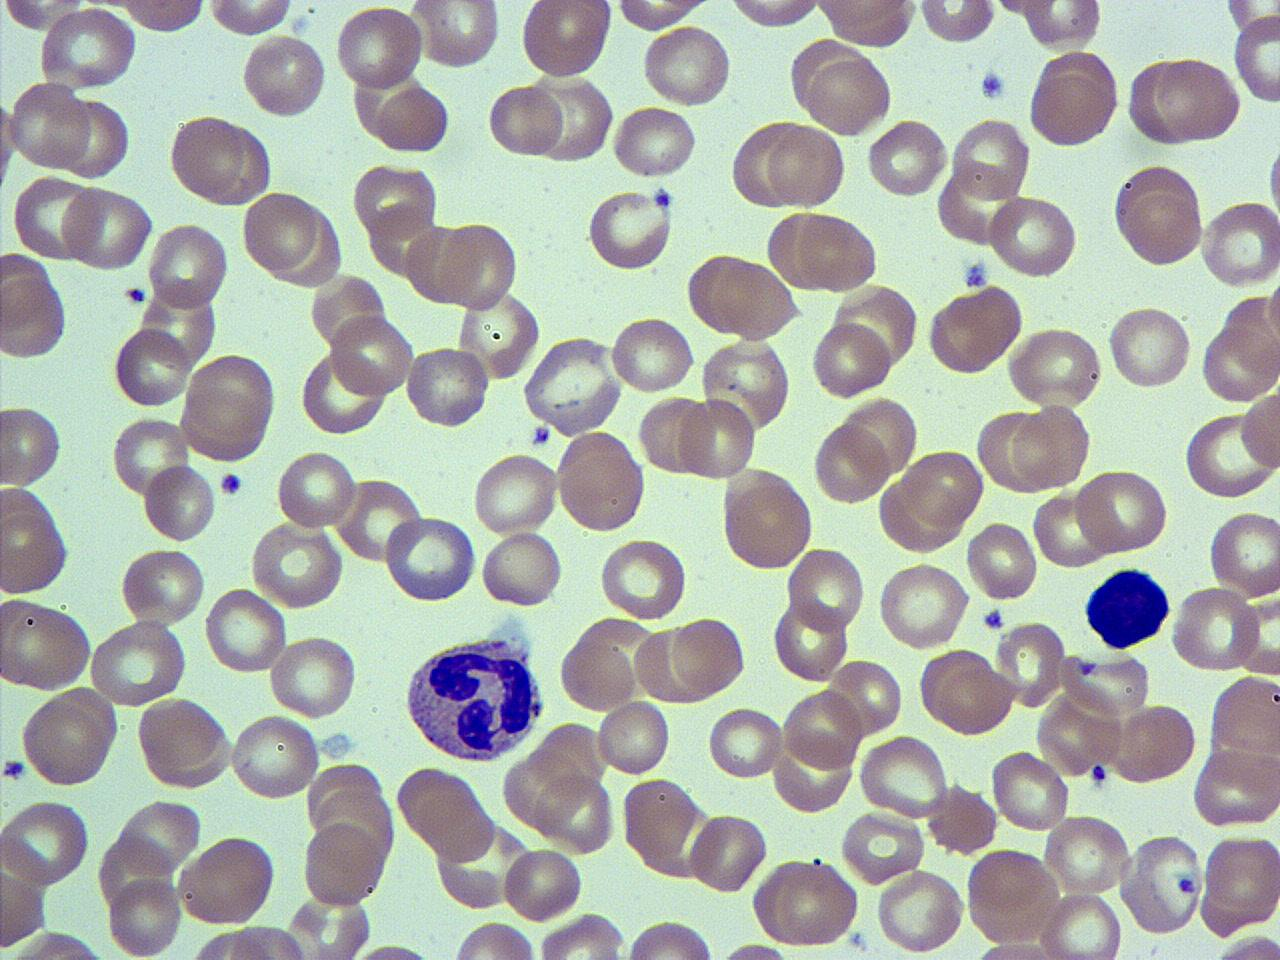Platelets: (962, 255, 994, 290), (979, 68, 1009, 101), (217, 468, 246, 499), (1, 754, 28, 782), (980, 607, 1006, 631), (1089, 761, 1109, 788), (124, 284, 148, 306), (530, 423, 550, 448)
RBC: (182, 348, 280, 462), (18, 684, 119, 790), (750, 856, 860, 950), (1111, 160, 1205, 268), (720, 468, 816, 573), (963, 844, 1061, 946), (554, 430, 648, 534), (700, 334, 793, 438), (690, 251, 798, 340), (178, 833, 278, 928), (925, 282, 1024, 377), (0, 594, 94, 693), (88, 616, 190, 707), (134, 696, 232, 790), (876, 558, 972, 653), (226, 710, 322, 804), (36, 5, 140, 91), (1006, 324, 1106, 413), (456, 285, 544, 386), (1026, 55, 1120, 149), (1182, 408, 1278, 500), (248, 520, 346, 610), (1073, 466, 1171, 556), (0, 795, 92, 890), (1167, 583, 1263, 674), (382, 513, 478, 604), (59, 182, 154, 273), (1122, 832, 1204, 936), (267, 631, 360, 722), (874, 866, 968, 956), (597, 534, 689, 624), (202, 583, 289, 678), (298, 348, 389, 438), (986, 193, 1080, 280), (334, 4, 426, 92), (145, 219, 231, 313), (856, 734, 950, 820), (240, 31, 329, 121), (1106, 301, 1194, 392), (518, 0, 614, 83), (1042, 810, 1132, 898), (404, 341, 492, 431), (639, 23, 732, 108), (437, 218, 520, 313), (0, 487, 71, 598), (11, 172, 98, 262), (9, 79, 93, 172), (472, 450, 562, 536), (329, 309, 415, 398), (784, 544, 866, 637), (301, 822, 387, 910), (586, 188, 674, 274), (350, 160, 442, 242), (1202, 832, 1280, 928), (1157, 55, 1241, 144), (766, 120, 848, 211), (1199, 197, 1280, 289), (804, 52, 892, 136), (988, 746, 1072, 834), (118, 545, 208, 627), (534, 73, 614, 165), (948, 115, 1031, 203), (1009, 402, 1091, 491), (606, 314, 697, 394), (274, 447, 359, 532), (1114, 700, 1198, 786), (839, 806, 927, 888), (110, 412, 191, 501), (810, 317, 894, 402), (534, 769, 616, 856), (479, 528, 564, 611), (1192, 748, 1278, 830), (117, 796, 203, 878), (930, 656, 1016, 738), (112, 323, 193, 410), (668, 613, 750, 698), (675, 396, 756, 482), (609, 103, 699, 180), (771, 598, 851, 684), (688, 810, 768, 896), (811, 418, 889, 506), (728, 118, 802, 210), (782, 688, 863, 772), (1207, 506, 1279, 600), (168, 113, 244, 202), (904, 446, 986, 528), (798, 211, 881, 292), (994, 618, 1067, 710), (240, 188, 317, 275), (866, 118, 948, 199), (1199, 320, 1279, 403), (501, 844, 584, 924), (107, 872, 184, 958), (558, 632, 640, 712), (636, 394, 714, 478), (594, 695, 672, 779), (964, 518, 1040, 604), (142, 458, 216, 546), (1059, 648, 1151, 718), (1031, 488, 1107, 571), (829, 655, 904, 739), (763, 208, 837, 293), (410, 1, 502, 69), (1038, 888, 1124, 960), (487, 82, 565, 160), (704, 705, 784, 781), (1, 274, 69, 362), (0, 402, 63, 490), (374, 84, 451, 155), (1230, 9, 1280, 107), (534, 912, 628, 959), (814, 0, 916, 42), (1021, 1, 1105, 52), (624, 918, 718, 960), (1238, 386, 1280, 476), (186, 927, 300, 960), (449, 918, 538, 960), (917, 0, 998, 46), (204, 0, 298, 38), (0, 929, 114, 960), (116, 0, 210, 36), (613, 0, 713, 33), (724, 0, 826, 31), (0, 0, 87, 35), (965, 939, 1076, 960), (1207, 932, 1280, 960)
WBC: (398, 618, 548, 768), (1081, 564, 1173, 652)
